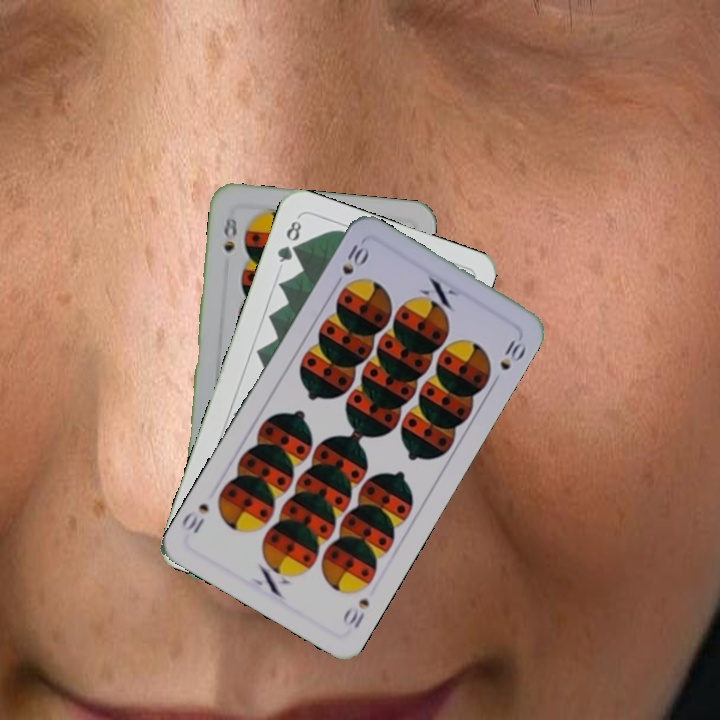G8: (273, 214, 304, 265)
S10: (337, 240, 371, 278), (338, 594, 372, 631)
S8: (217, 207, 240, 254)
